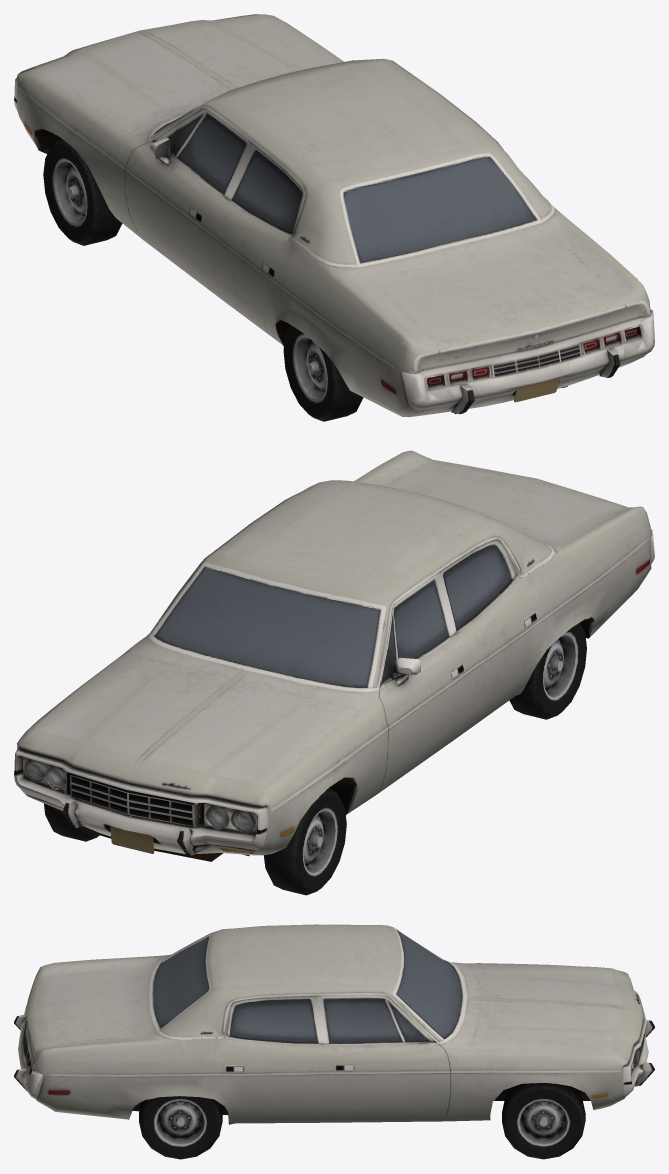
File: AMC_Matador.FBX
The picture shows the model from 3 angles, top to bottom: view 1: azimuth 30°, elevation 25°; view 2: azimuth 150°, elevation 25°; view 3: azimuth 270°, elevation 25°; orthographic projection. The views are drawn at different scales.
Parts seen in each view (by area): view 1: Object002; view 2: Object002; view 3: Object002.
Part boxes in pixels (x1=…): Object002: x1=14, y1=14, x2=654, y2=421; Object002: x1=14, y1=450, x2=654, y2=895; Object002: x1=14, y1=924, x2=654, y2=1159.
Size of the model in its own units: 224 by 171 by 608.
